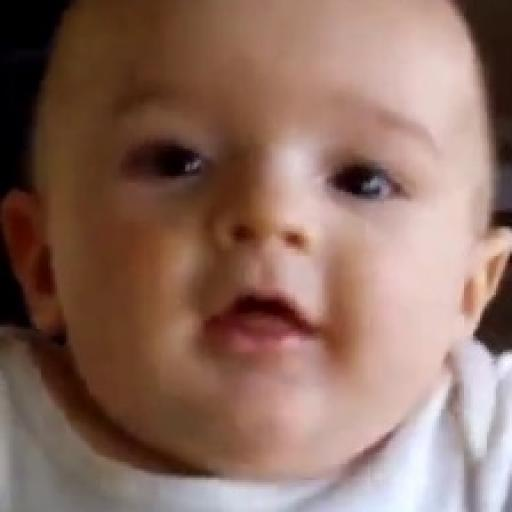Autism: (40, 24, 499, 430)
